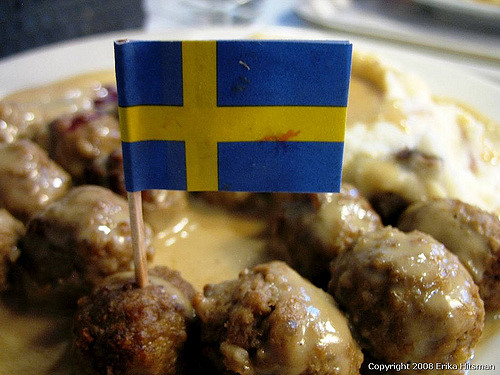meatballs: (342, 229, 478, 366), (209, 256, 349, 372), (83, 269, 191, 375), (28, 186, 144, 279), (281, 183, 387, 281)
